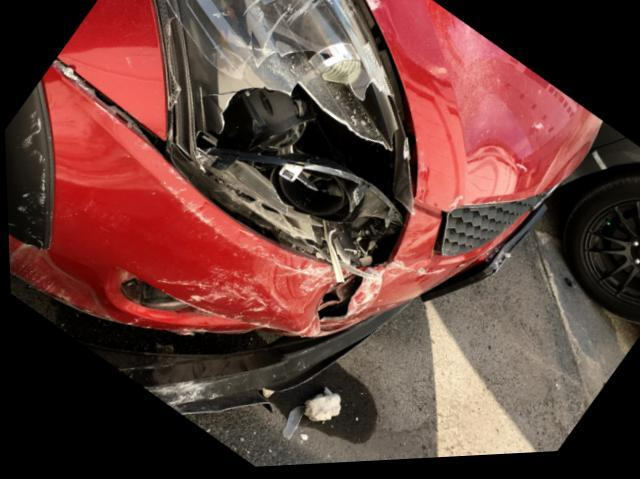dislocated part: (4, 60, 372, 346)
lamp broken: (154, 0, 416, 277)
scratch: (158, 171, 334, 342), (346, 264, 446, 322)
